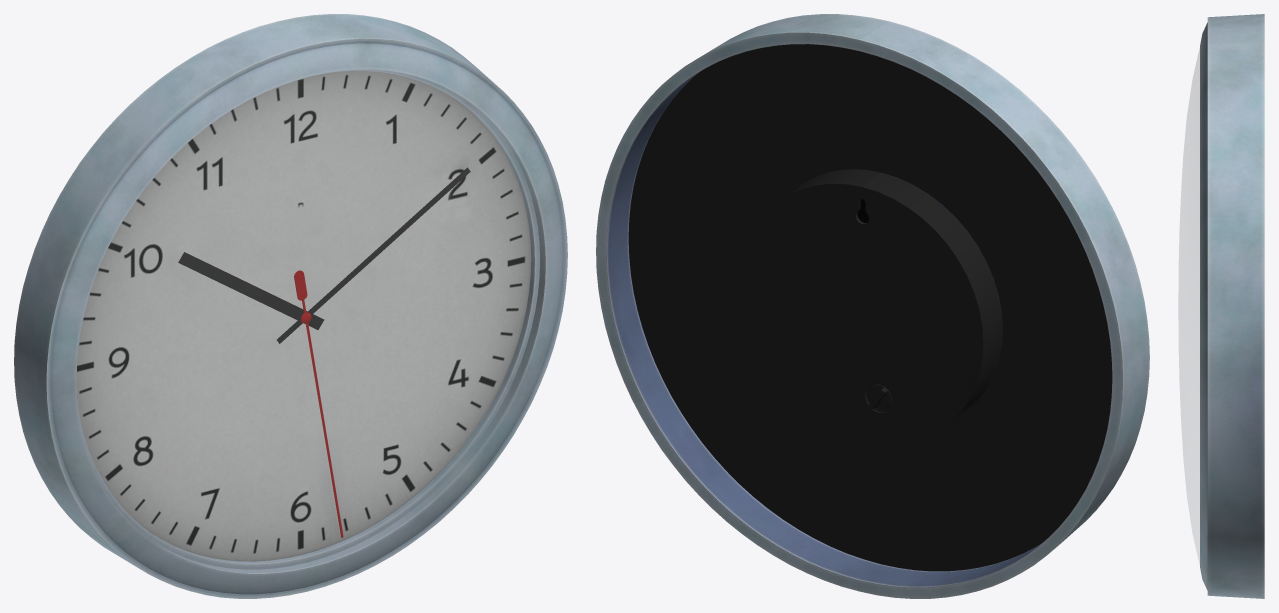
File: WallClock.obj
3 renders of one model, left to right at view 1: azimuth 30°, elevation 25°; view 2: azimuth 150°, elevation 25°; view 3: azimuth 270°, elevation 25°, orthographic. The views are drawn at different scales.
Parts seen in each view (by area): view 1: Clock, Glass; view 2: Clock; view 3: Clock, Glass.
Part boxes in pixels (bbox=[...]): Clock: bbox=[14, 14, 567, 598]; Glass: bbox=[77, 70, 544, 573]; Clock: bbox=[596, 14, 1149, 598]; Clock: bbox=[1200, 14, 1264, 598]; Glass: bbox=[1178, 49, 1199, 563].
Bounding box in the file's own units: 0.3204 × 0.3204 × 0.0472.
Materials: 2 (1 with a texture image).
